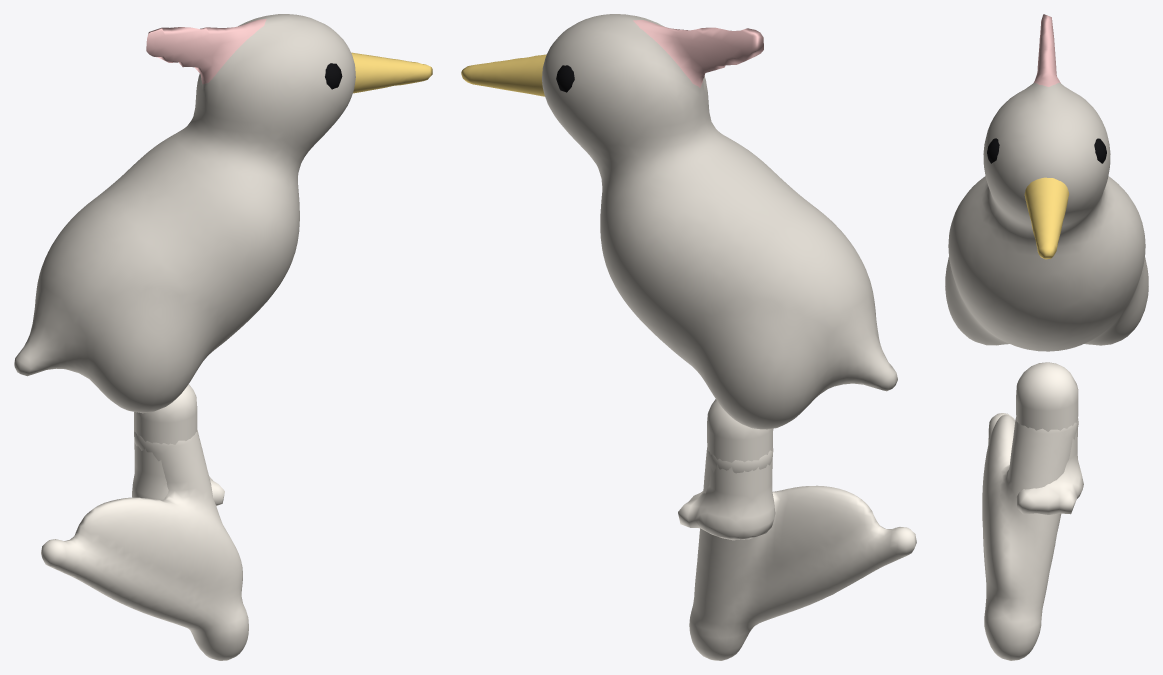
File: pteranodon_baby.glb
3 renders of one model, left to right at view 1: azimuth 30°, elevation 25°; view 2: azimuth 150°, elevation 25°; view 3: azimuth 270°, elevation 25°, orthographic. The views are drawn at different scales.
Parts seen in each view (by area): view 1: body, wing, leg, beak; view 2: body, wing, leg, beak; view 3: body, wing, leg, beak, eye.
Boxes of the visible parts, box(x1,y1,x2,y2) form: body: box(14, 14, 355, 413); wing: box(41, 429, 248, 660); leg: box(132, 384, 224, 505); beak: box(351, 52, 432, 93); body: box(542, 14, 897, 429); wing: box(689, 447, 916, 660); leg: box(678, 399, 775, 540); beak: box(461, 54, 546, 96); body: box(945, 14, 1148, 351); wing: box(982, 413, 1078, 660); leg: box(1016, 362, 1083, 514); beak: box(1024, 177, 1069, 259); eye: box(987, 138, 1106, 163).
Size of the model in its own units: 1.5 by 2.16 by 0.6442.
